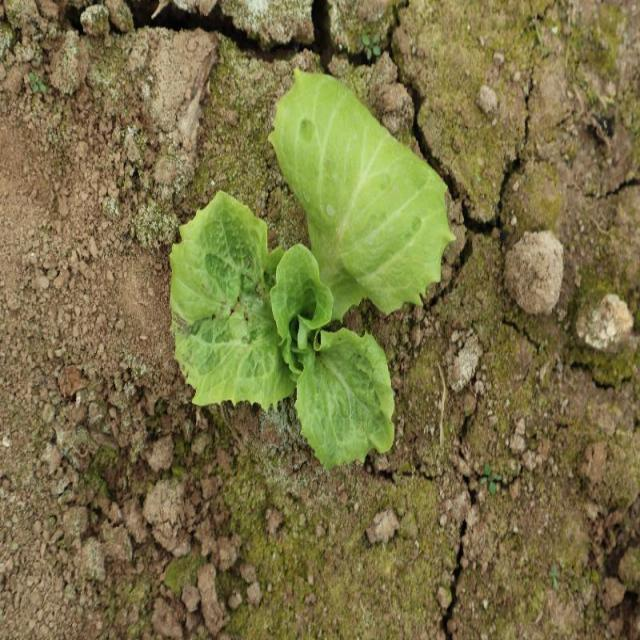crop: (171, 75, 456, 473)
